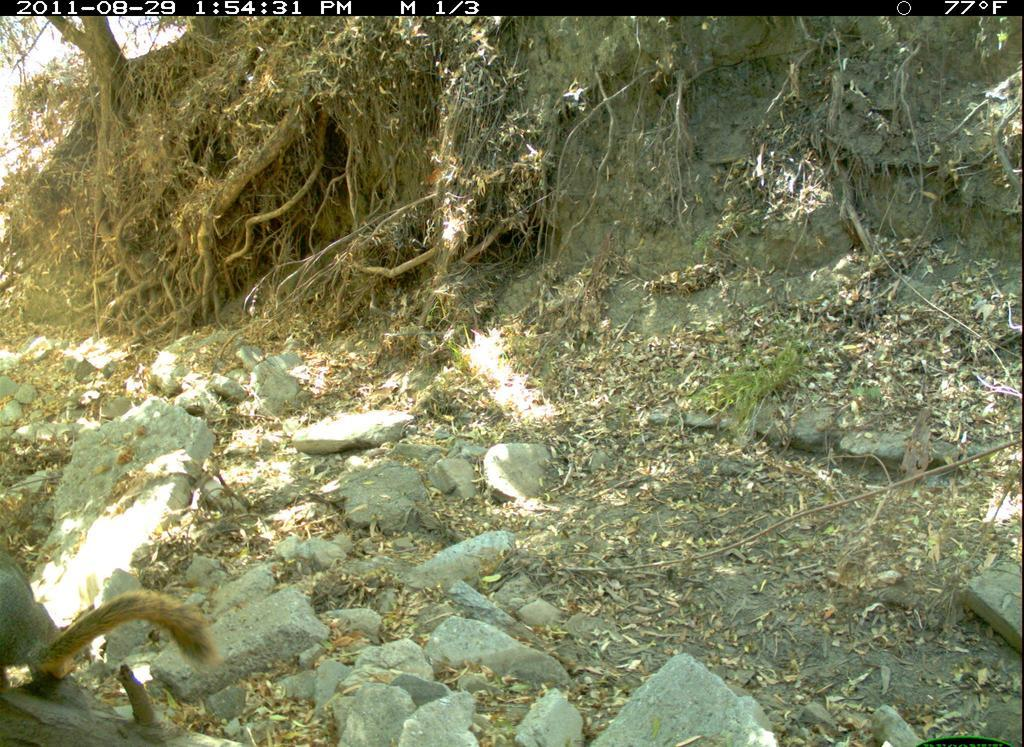squirrel: (1, 552, 221, 697)
